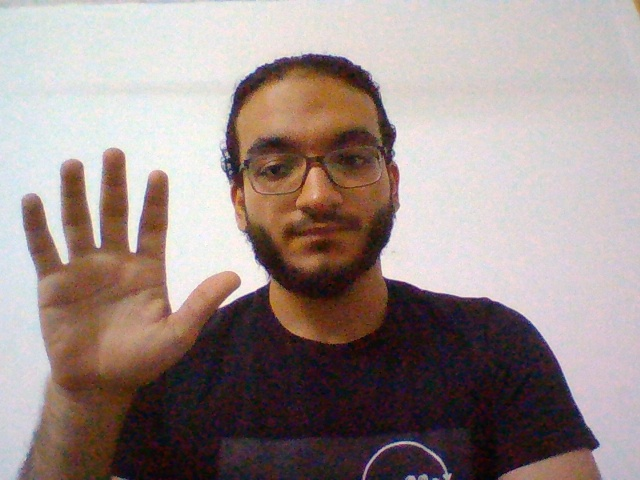Hello: (12, 139, 246, 416)
